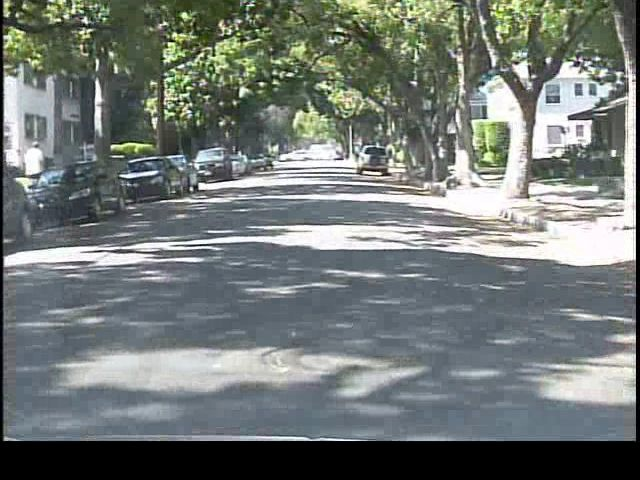person: (25, 138, 53, 204)
